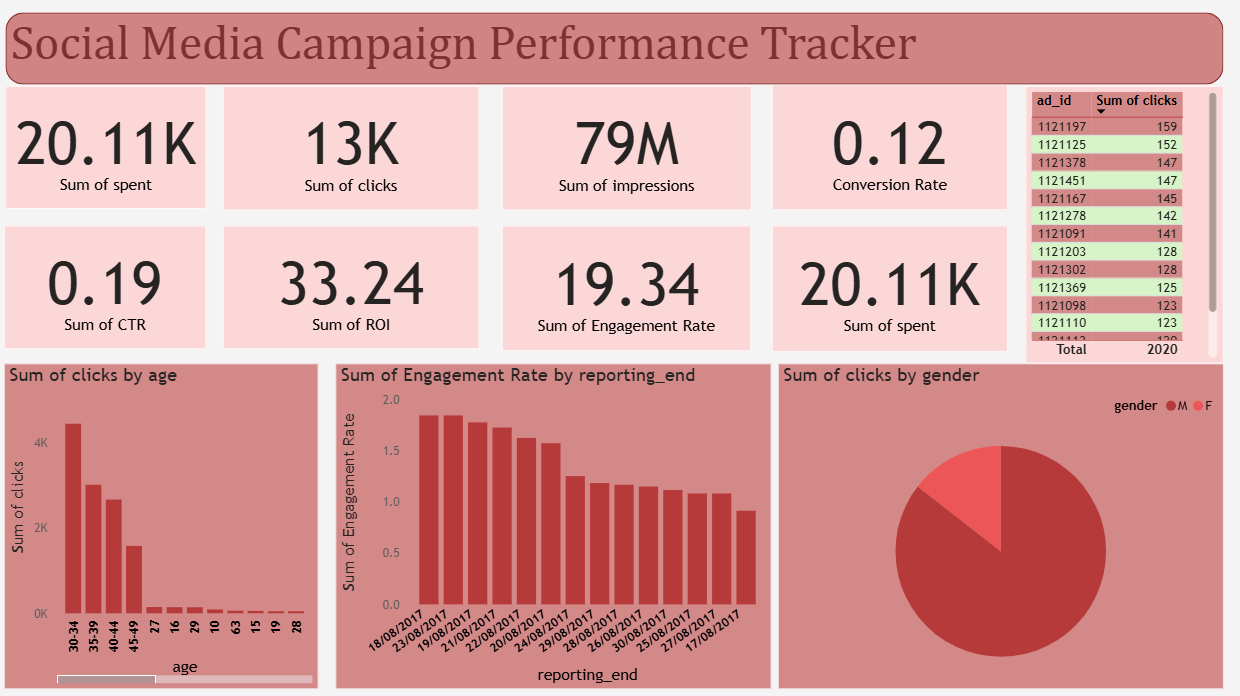

The page's visual inventory and layout, read from the dashboard file:
{"tool":"powerbi","page":{"name":"Page 1","canvas":[1280,720],"ordinal":0},"visuals":[{"type":"clusteredColumnChart","fields":{"Y":["Sum(data.clicks)"],"Category":["data.age"]},"box":[24.6,374.2,317.5,328.8],"z":0},{"type":"card","fields":{"Values":["Sum(data.clicks)"]},"box":[245,93.3,258.3,125],"z":1000},{"type":"card","fields":{"Values":["Sum(data.impressions)"]},"box":[526.7,93.3,251.7,125],"z":2000},{"type":"card","fields":{"Values":["Sum(data.spent)"]},"box":[24.2,92.4,202.9,124.2],"z":3000},{"type":"card","fields":{"Values":["data.Conversion Rate"]},"box":[799.4,92.6,238.1,126.6],"z":4000},{"type":"card","fields":{"Values":["Sum(data.Engagement Rate)"]},"box":[527.2,234.3,251.3,126.6],"z":5000},{"type":"pieChart","fields":{"Y":["Sum(data.clicks)"],"Category":["data.gender"]},"box":[805.6,374,449.7,328.6],"z":6000},{"type":"clusteredColumnChart","fields":{"Y":["Sum(data.Engagement Rate)"],"Category":["data.reporting_end"]},"box":[359.1,374.2,440.3,328.8],"z":7000},{"type":"card","fields":{"Values":["Sum(data.CTR)"]},"box":[24.6,234.3,204.1,124.7],"z":8000},{"type":"card","fields":{"Values":["Sum(data.ROI)"]},"box":[245.7,234.3,258.9,124.7],"z":9000},{"type":"tableEx","title":"sum of clicks by id","fields":{"Values":["data.ad_id","Sum(data.clicks)"]},"box":[1055.4,93.9,199.9,280.1],"z":10000},{"type":"card","fields":{"Values":["Sum(data.spent)"]},"box":[799.5,234.7,237.7,127.2],"z":11000},{"type":"textbox","box":[25.7,19.7,1253.8,72.7],"z":12000},{"type":"shape","box":[25.7,19.7,1229.5,72.7],"z":13000}]}

Visuals, with their boxes in screenshot pixels (x1, y1, x2, y2), scaled from the page's 1280x720 canvas onto the 1240x696 screenshot:
clusteredColumnChart - Sum(data.clicks) x data.age: 24 362 331 680
card - Sum(data.clicks): 237 90 488 211
card - Sum(data.impressions): 510 90 754 211
card - Sum(data.spent): 23 89 220 209
card - data.Conversion Rate: 774 90 1005 212
card - Sum(data.Engagement Rate): 511 226 754 349
pieChart - Sum(data.clicks) x data.gender: 780 362 1216 679
clusteredColumnChart - Sum(data.Engagement Rate) x data.reporting_end: 348 362 774 680
card - Sum(data.CTR): 24 226 222 347
card - Sum(data.ROI): 238 226 489 347
"sum of clicks by id" tableEx: 1022 91 1216 362
card - Sum(data.spent): 775 227 1005 350
textbox: 25 19 1239 89
shape: 25 19 1216 89
